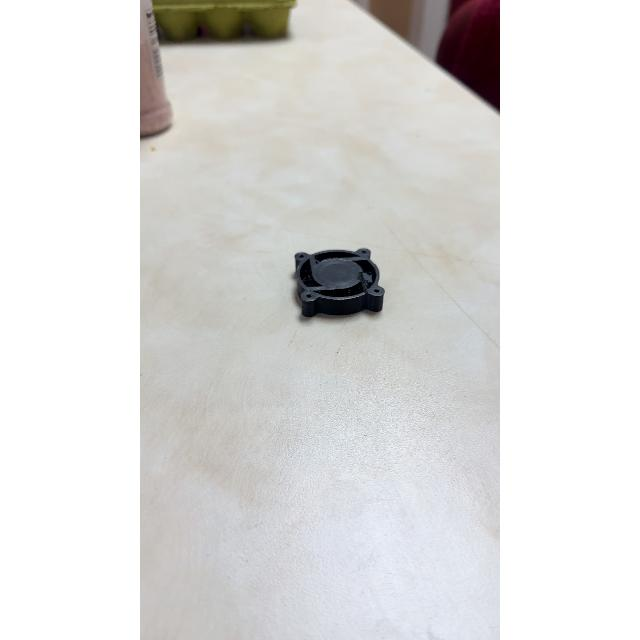Pieza_4: (275, 230, 409, 332)
